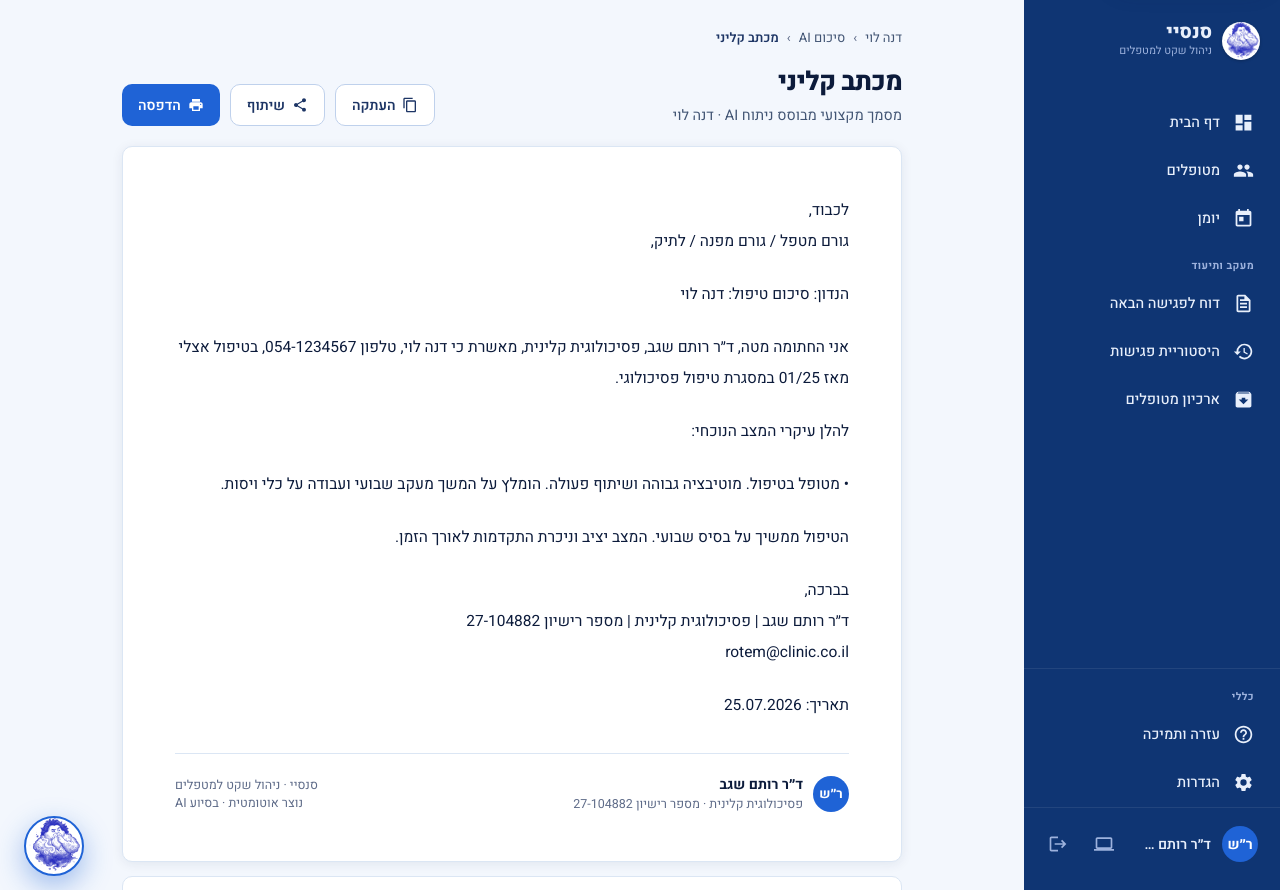
Scenario: copy-to-clipboard — clinical letter + success toast › copies the letter text to the clipboard and announces a success toast
Step 1. Click the button "העתקה" → (385, 105), box x1=335 y1=84 x2=436 y2=126
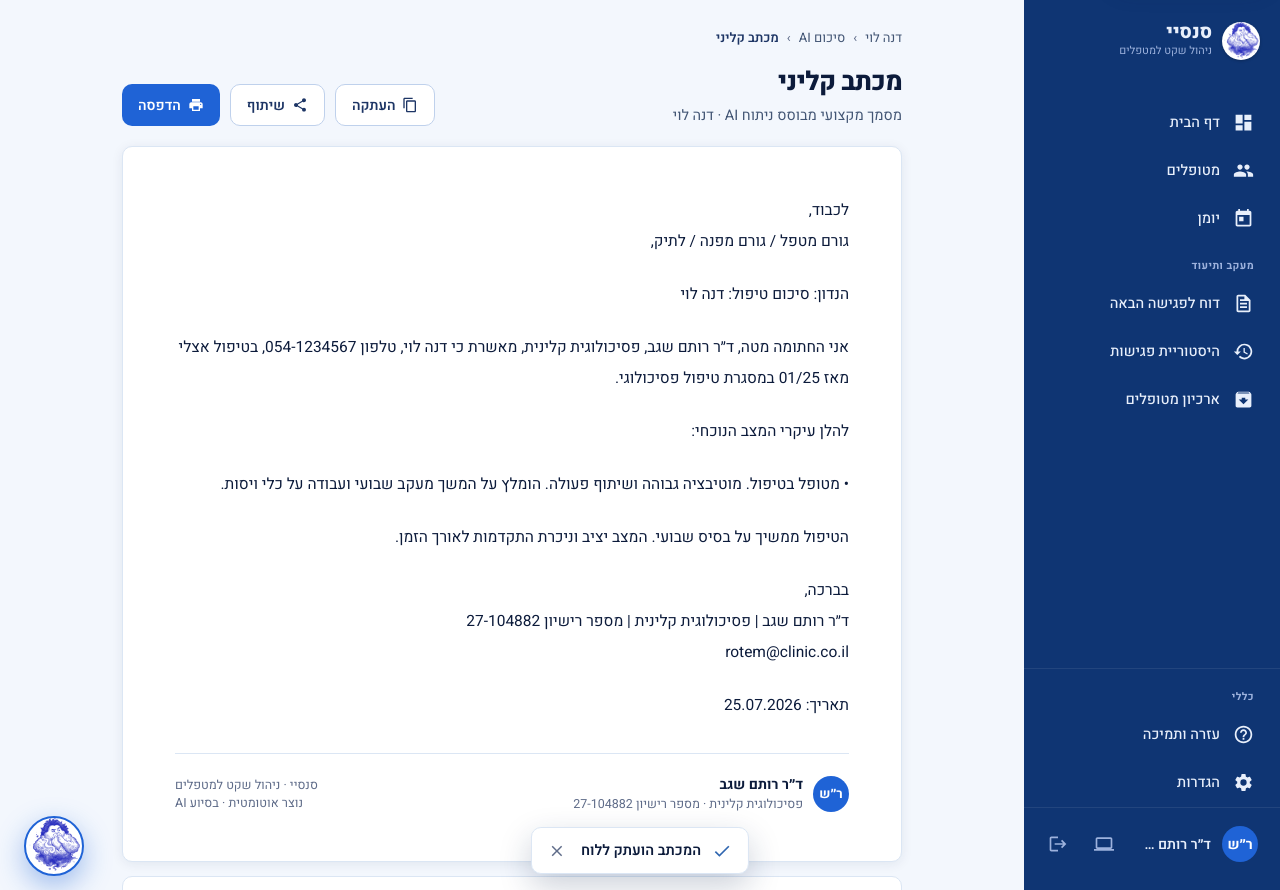
Now the message "המכתב הועתק ללוח" is shown, box x1=531 y1=827 x2=749 y2=874
